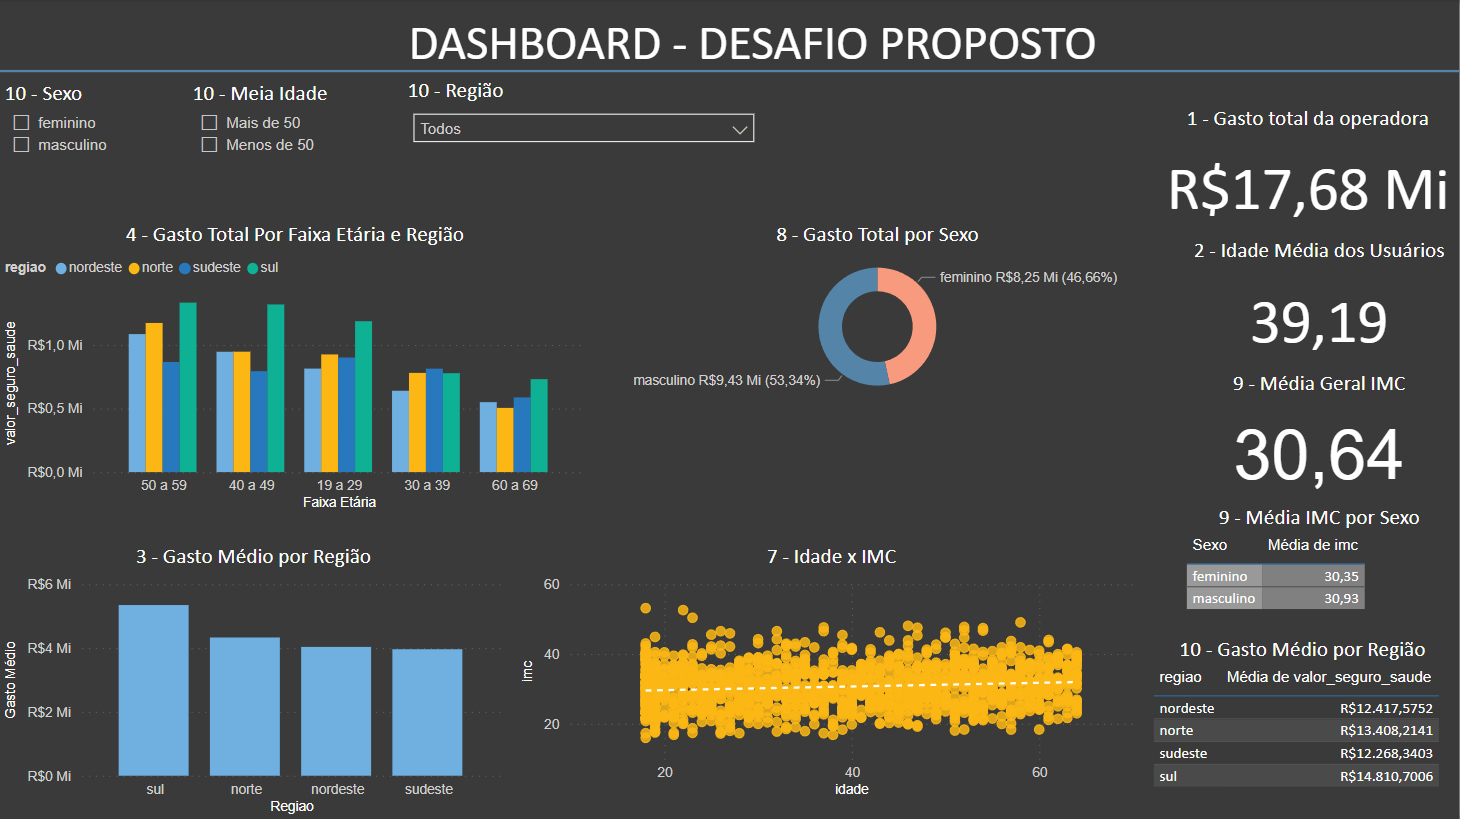

The page's visual inventory and layout, read from the dashboard file:
{"tool":"powerbi","page":{"name":"Página 1","canvas":[1280,720],"ordinal":0},"visuals":[{"type":"card","title":"1 - Gasto total da operadora","fields":{"Values":["Sum(seguro_saude.valor_seguro_saude)"]},"box":[1015.4,92.4,264.6,115.7],"z":0},{"type":"card","title":"2 - Idade Média dos Usuários","fields":{"Values":["Avg(seguro_saude.idade)"]},"box":[1035.9,208.1,244.1,116.7],"z":1000},{"type":"columnChart","title":"3 - Gasto Médio por Região","fields":{"Y":["Sum(seguro_saude.valor_seguro_saude)"],"Category":["seguro_saude.regiao"]},"box":[0,476.2,446.4,243.8],"z":2000},{"type":"clusteredColumnChart","title":"4 - Gasto Total Por Faixa Etária e Região","fields":{"Category":["seguro_saude.Faixa Etária"],"Y":["Sum(seguro_saude.valor_seguro_saude)"],"Series":["seguro_saude.regiao"]},"box":[0,193.8,519.2,260.5],"z":3000},{"type":"scatterChart","title":"7 - Idade x IMC","fields":{"X":["seguro_saude.idade"],"Y":["seguro_saude.imc"]},"box":[453.4,476.2,553.4,228.9],"z":3001},{"type":"donutChart","title":"8 - Gasto Total por Sexo","fields":{"Y":["Sum(seguro_saude.valor_seguro_saude)"],"Series":["seguro_saude.sexo"]},"box":[525.3,193.8,490.2,164],"z":3002},{"type":"card","title":"9 - Média Geral IMC","fields":{"Values":["Avg(seguro_saude.imc)"]},"box":[1035.9,324.9,244.1,116.7],"z":3003},{"type":"tableEx","title":"9 - Média IMC por Sexo","fields":{"Values":["seguro_saude.sexo","Avg(seguro_saude.imc)"]},"box":[1035.9,441.6,244.1,115.7],"z":3004},{"type":"tableEx","title":"10 - Gasto Médio por Região","fields":{"Values":["seguro_saude.regiao","Avg(seguro_saude.valor_seguro_saude)"]},"box":[1006.8,557.8,272.7,162.2],"z":3005},{"type":"textbox","box":[276.2,7,778.8,85.1],"z":3007},{"type":"shape","box":[0.9,34.2,1279.5,57.9],"z":3008},{"type":"slicer","title":"10 - Região","fields":{"Values":["seguro_saude.regiao"]},"box":[353.4,67.5,319.2,89.5],"z":3009},{"type":"slicer","title":"10 - Sexo","fields":{"Values":["seguro_saude.sexo"]},"box":[0,70.2,164.9,86.8],"z":3010},{"type":"slicer","title":"10 - Meia Idade","fields":{"Values":["seguro_saude.Meia-Idade"]},"box":[164.9,70.2,149.1,78.1],"z":3011}]}

Visuals, with their boxes in screenshot pixels (x1, y1, x2, y2), scaled from the page's 1280x720 canvas onto the 1460x819 screenshot:
"1 - Gasto total da operadora" card: crop(1158, 105, 1459, 237)
"2 - Idade Média dos Usuários" card: crop(1182, 237, 1459, 369)
"3 - Gasto Médio por Região" columnChart: crop(0, 542, 509, 818)
"4 - Gasto Total Por Faixa Etária e Região" clusteredColumnChart: crop(0, 220, 592, 517)
"7 - Idade x IMC" scatterChart: crop(517, 542, 1148, 802)
"8 - Gasto Total por Sexo" donutChart: crop(599, 220, 1158, 407)
"9 - Média Geral IMC" card: crop(1182, 370, 1459, 502)
"9 - Média IMC por Sexo" tableEx: crop(1182, 502, 1459, 634)
"10 - Gasto Médio por Região" tableEx: crop(1148, 634, 1459, 818)
textbox: crop(315, 8, 1203, 105)
shape: crop(1, 39, 1459, 105)
"10 - Região" slicer: crop(403, 77, 767, 179)
"10 - Sexo" slicer: crop(0, 80, 188, 179)
"10 - Meia Idade" slicer: crop(188, 80, 358, 169)
